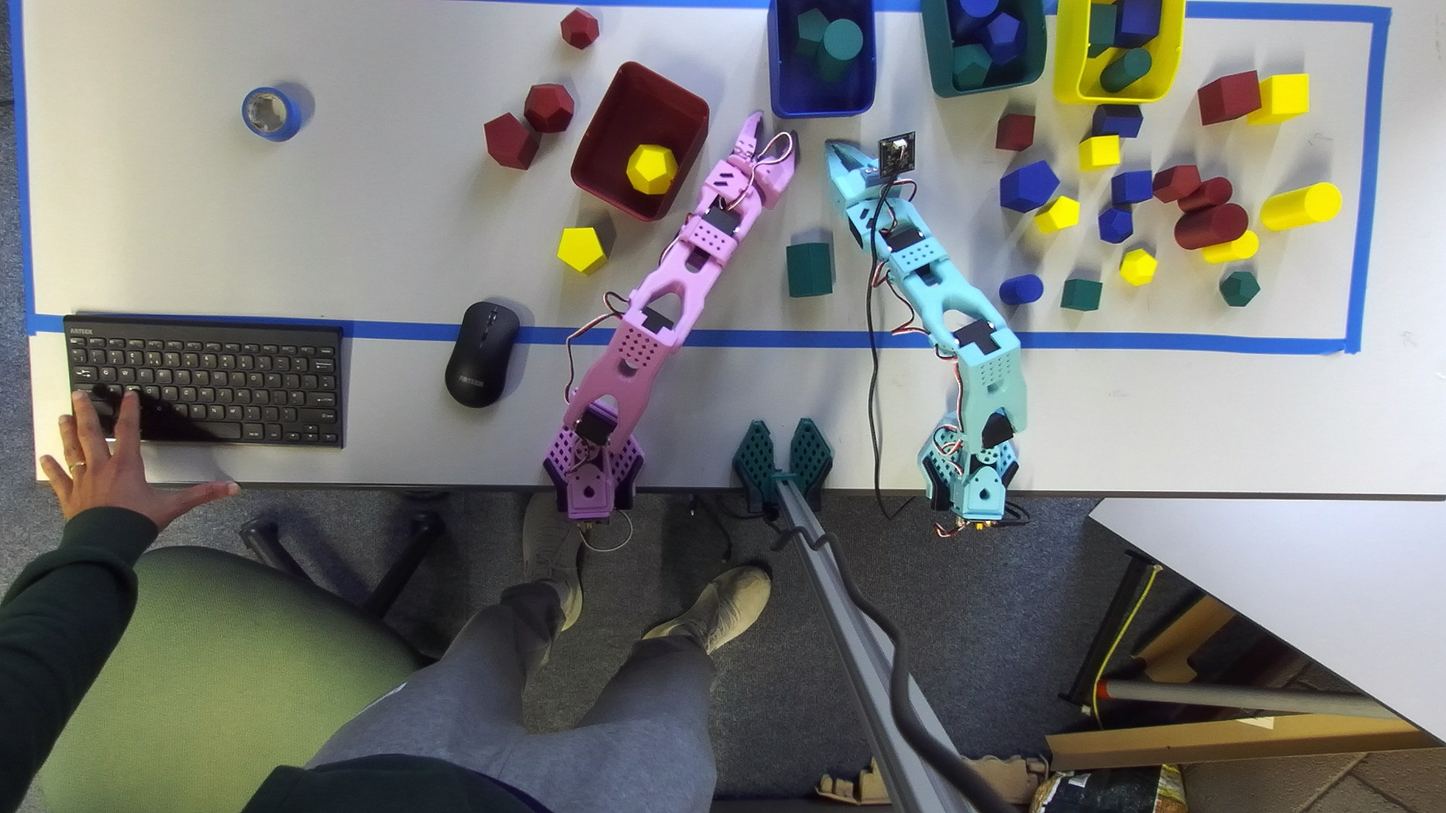bin: (570, 62, 709, 221), (1053, 0, 1185, 104), (767, 0, 876, 117), (921, 0, 1045, 96)
cube: (1197, 72, 1261, 125), (1247, 73, 1308, 124), (1114, 0, 1161, 47), (1087, 3, 1116, 57), (996, 112, 1035, 151), (1078, 135, 1120, 171), (1111, 170, 1152, 205), (1061, 278, 1102, 310)
cylinder: (1260, 182, 1341, 230), (1175, 202, 1247, 248), (816, 19, 862, 80), (1100, 48, 1152, 93), (948, 0, 998, 39), (1201, 230, 1258, 263), (1178, 177, 1231, 212), (999, 274, 1043, 305)
dodecahedron: (626, 144, 678, 194), (524, 84, 574, 132), (982, 13, 1025, 65), (953, 44, 991, 91), (560, 8, 599, 49), (1219, 271, 1259, 306), (1120, 248, 1157, 285), (1098, 206, 1133, 243)
gripper: (727, 111, 798, 209), (825, 139, 913, 209)
hexagonal: (999, 160, 1059, 212), (484, 114, 539, 169), (786, 243, 832, 297), (557, 227, 606, 274), (1091, 104, 1142, 138), (1034, 196, 1079, 233), (795, 8, 828, 56)
